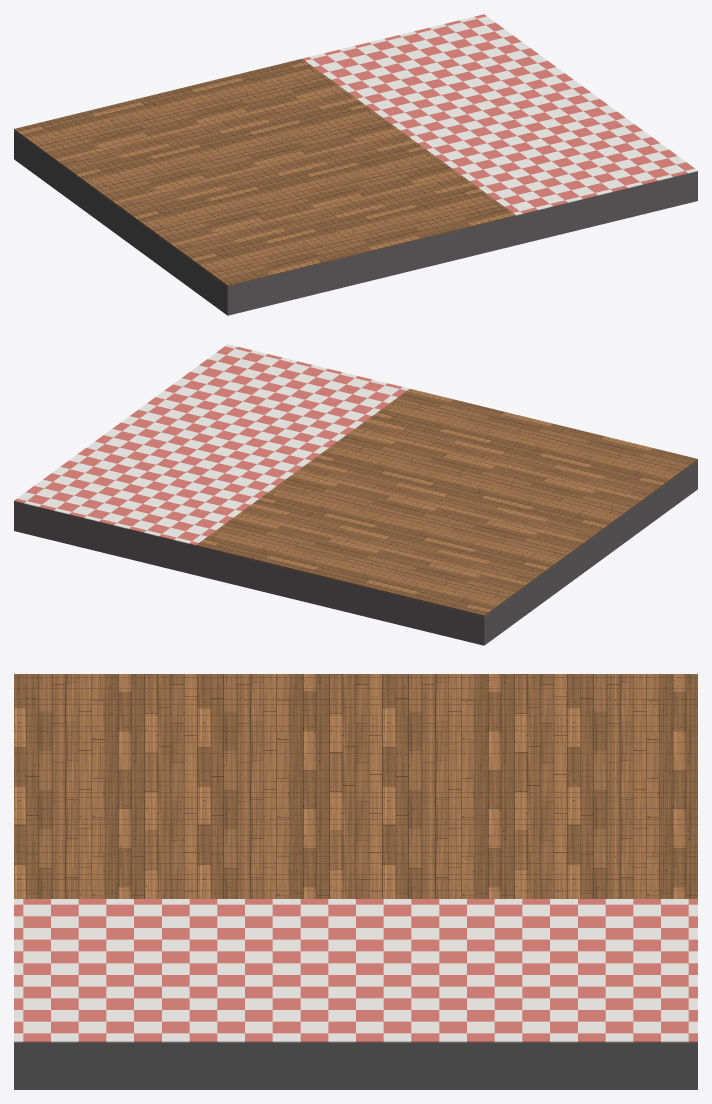
Rendered from floor0.glb.
The picture shows the model from 3 angles, top to bottom: view 1: azimuth 30°, elevation 25°; view 2: azimuth 150°, elevation 25°; view 3: azimuth 270°, elevation 25°; orthographic projection. The views are drawn at different scales.
Visible parts, largest first — view 1: floor0_floor, floor0_enamel, floor0_lino, floor0_dark; view 2: floor0_floor, floor0_lino, floor0_enamel, floor0_dark; view 3: floor0_floor, floor0_lino, floor0_enamel, floor0_dark.
Boxes of the visible parts, <box> form: floor0_floor: <box>14,58,515,286</box>; floor0_enamel: <box>305,16,697,215</box>; floor0_lino: <box>302,14,694,213</box>; floor0_dark: <box>14,130,697,315</box>; floor0_floor: <box>196,388,697,616</box>; floor0_lino: <box>14,346,406,545</box>; floor0_enamel: <box>17,344,409,543</box>; floor0_dark: <box>14,460,697,645</box>; floor0_floor: <box>14,674,697,898</box>; floor0_lino: <box>14,899,697,1042</box>; floor0_enamel: <box>14,899,697,1042</box>; floor0_dark: <box>14,1042,697,1089</box>.
Size of the model in its own units: 9.4 by 0.58 by 7.4.
4 materials, 1 textured.
